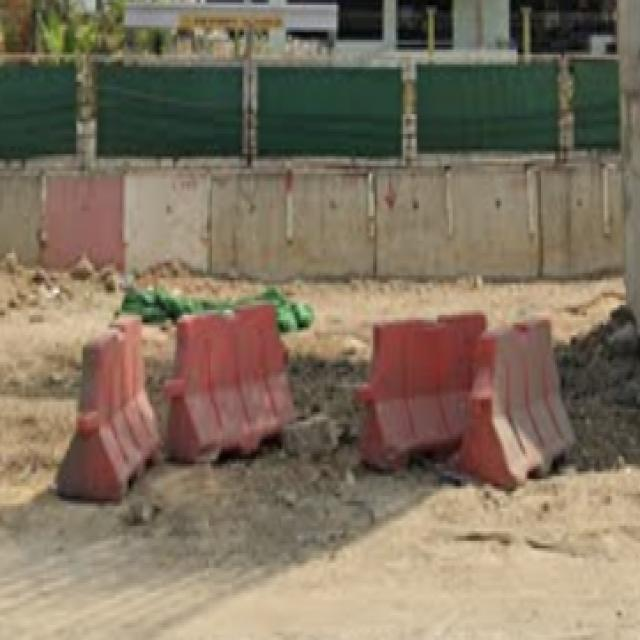fallen_object: (117, 153, 377, 288), (327, 152, 562, 280), (47, 289, 171, 512), (343, 299, 489, 476), (501, 110, 640, 288), (456, 315, 586, 502), (163, 292, 294, 469), (0, 163, 141, 280)
